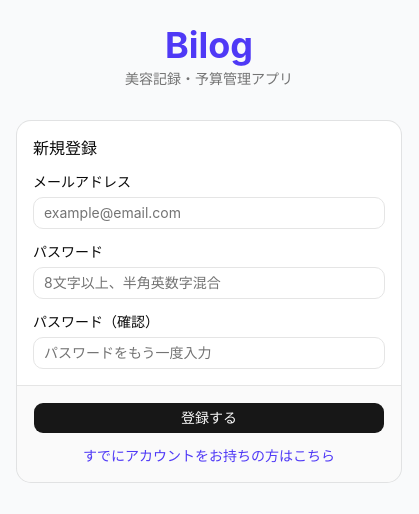
Test: SignUpPage › パスワードが一致しない場合にエラーが表示されること
Type "test@example.com" into the field labelled "メールアドレス" at (209, 212), box [33,196,385,228]
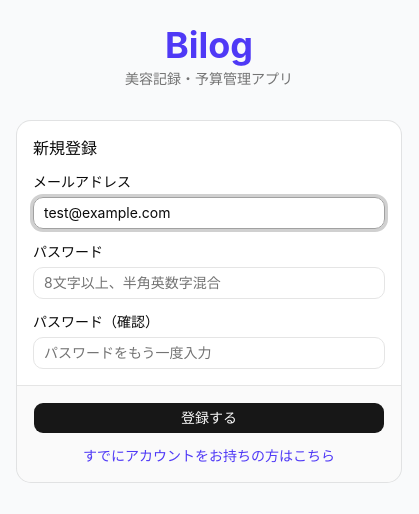
Type "pass1234" into the password field labelled "パスワード" at (209, 282), box [33,266,385,298]
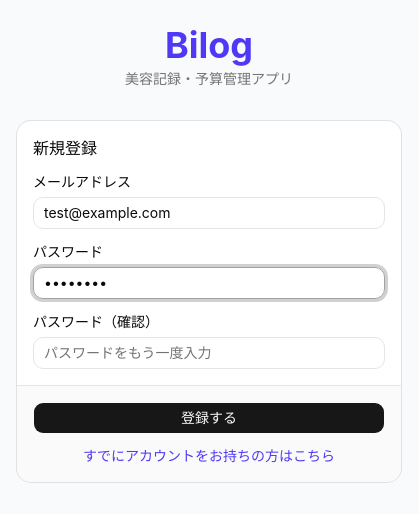
Type "pass9999" into the password field labelled "パスワード（確認）" at (209, 352), box [33,336,385,368]
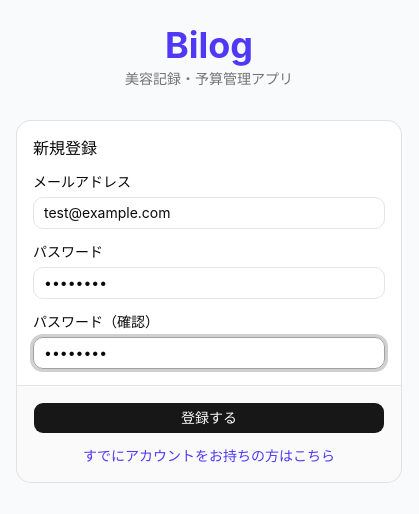
Click the button "登録する" at (209, 418), box [33,402,385,434]
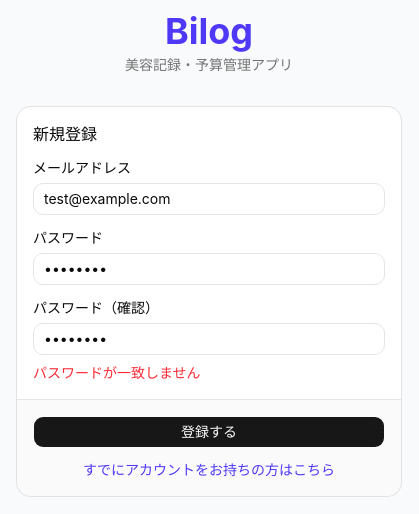
expect the text "パスワードが一致しません" is shown: met, box [33,364,201,380]
